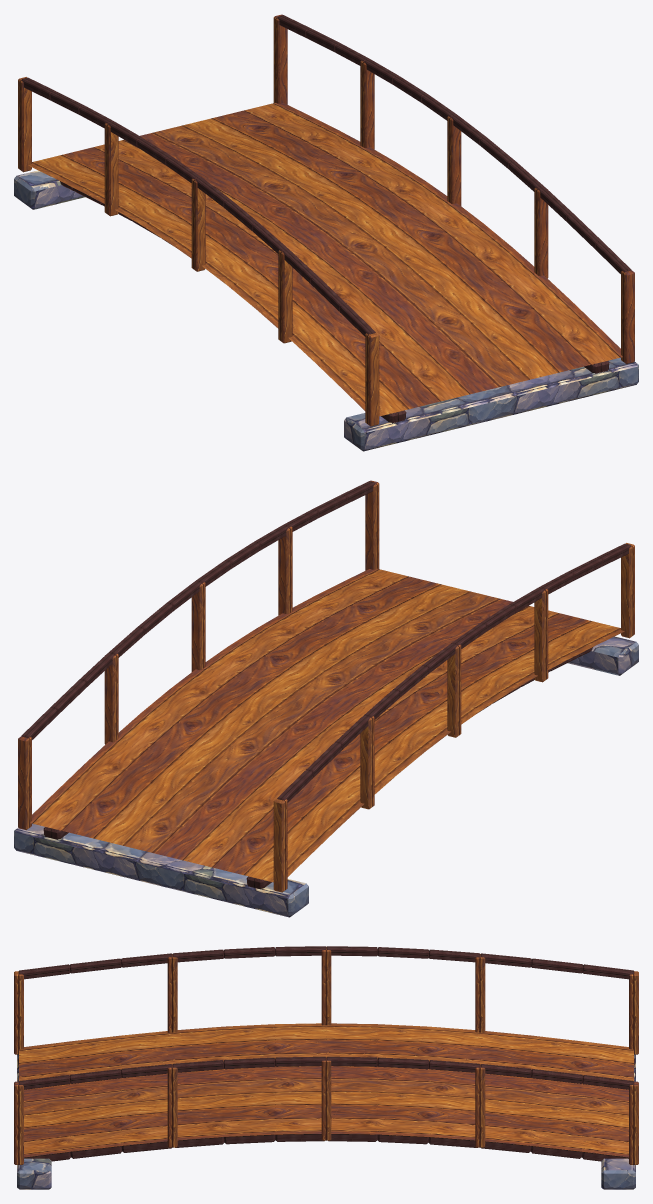
The model's file is Wooden_Bridge.fbx.
3 renders of one model, top to bottom at view 1: azimuth 30°, elevation 25°; view 2: azimuth 150°, elevation 25°; view 3: azimuth 270°, elevation 25°, orthographic. The views are drawn at different scales.
Visible parts, largest first — view 1: Fitted wooden bridge deck, Bridge abutment sill, Fitted wooden bridge deck.001, Fitted wooden bridge deck.002, Fitted wooden bridge deck.003, Fitted wooden bridge deck.004, Fitted wooden bridge deck.005, Fitted wooden bridge deck.006, Fitted wooden bridge deck.007, Fitted wooden bridge deck.008, Fitted wooden bridge deck.009, Fitted wooden bridge deck.010 (+12 smaller); view 2: Fitted wooden bridge deck.011, Bridge abutment sill.001, Fitted wooden bridge deck.010, Fitted wooden bridge deck.009, Fitted wooden bridge deck.008, Fitted wooden bridge deck.007, Fitted wooden bridge deck.006, Fitted wooden bridge deck.005, Fitted wooden bridge deck.004, Fitted wooden bridge deck.003, Fitted wooden bridge deck.002, Fitted wooden bridge deck.001 (+12 smaller); view 3: Fitted wooden bridge deck.004, Fitted wooden bridge deck.007, Fitted wooden bridge deck.001, Fitted wooden bridge deck.010, Fitted wooden bridge deck.005, Fitted wooden bridge deck.006, Fitted wooden bridge deck.003, Fitted wooden bridge deck.008, Fitted wooden bridge deck, Fitted wooden bridge deck.011, Fitted wooden bridge deck.002, Fitted wooden bridge deck.009 (+46 smaller).
Boxes of the visible parts, x1,y1,x2,y2 form: Fitted wooden bridge deck: (344, 327, 622, 416); Bridge abutment sill: (344, 357, 638, 451); Fitted wooden bridge deck.001: (315, 300, 598, 389); Fitted wooden bridge deck.002: (288, 274, 569, 361); Fitted wooden bridge deck.003: (257, 247, 535, 333); Fitted wooden bridge deck.004: (228, 223, 511, 309); Fitted wooden bridge deck.005: (202, 202, 482, 285); Fitted wooden bridge deck.006: (170, 181, 448, 261); Fitted wooden bridge deck.007: (141, 162, 424, 242); Fitted wooden bridge deck.008: (115, 147, 395, 224); Fitted wooden bridge deck.009: (83, 130, 362, 205); Fitted wooden bridge deck.010: (54, 115, 337, 192); Fitted wooden bridge deck.011: (30, 793, 308, 882); Bridge abutment sill.001: (14, 823, 308, 917); Fitted wooden bridge deck.010: (54, 766, 337, 855); Fitted wooden bridge deck.009: (83, 740, 364, 827); Fitted wooden bridge deck.008: (117, 713, 395, 799); Fitted wooden bridge deck.007: (141, 689, 424, 775); Fitted wooden bridge deck.006: (170, 668, 450, 751); Fitted wooden bridge deck.005: (204, 647, 482, 727); Fitted wooden bridge deck.004: (228, 628, 511, 708); Fitted wooden bridge deck.003: (257, 613, 537, 690); Fitted wooden bridge deck.002: (290, 596, 569, 671); Fitted wooden bridge deck.001: (315, 581, 598, 658); Fitted wooden bridge deck.004: (224, 1024, 275, 1136); Fitted wooden bridge deck.007: (377, 1024, 428, 1136); Fitted wooden bridge deck.001: (70, 1035, 121, 1151); Fitted wooden bridge deck.010: (531, 1035, 582, 1151); Fitted wooden bridge deck.005: (275, 1023, 326, 1134); Fitted wooden bridge deck.006: (326, 1023, 377, 1134); Fitted wooden bridge deck.003: (172, 1026, 223, 1140); Fitted wooden bridge deck.008: (429, 1026, 480, 1140); Fitted wooden bridge deck: (19, 1041, 70, 1157); Fitted wooden bridge deck.011: (582, 1041, 633, 1157); Fitted wooden bridge deck.002: (121, 1031, 172, 1145); Fitted wooden bridge deck.009: (480, 1031, 531, 1145).
Bounding box in the file's own units: 370 × 184 × 813.
